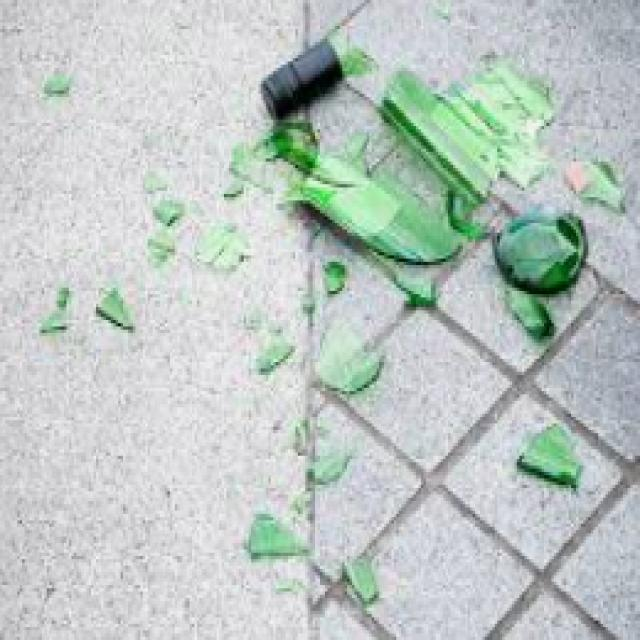PecahanKaca: (241, 0, 625, 339), (490, 207, 586, 294), (514, 420, 584, 488)
